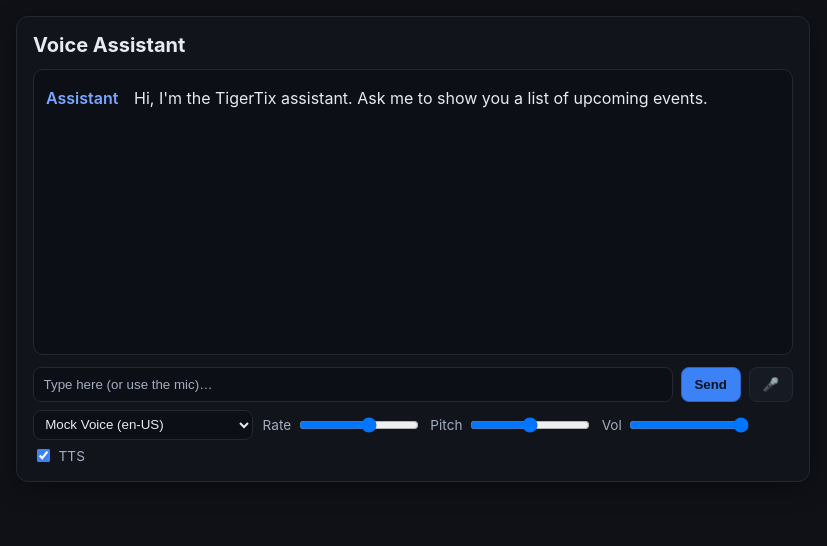
Test: booking via natural language (text)
# type a natural-language booking and send
Type "Please book one ticket for Clemson Homecoming Game" into the field named "Type your message" at (353,384), box [33,367,673,402]
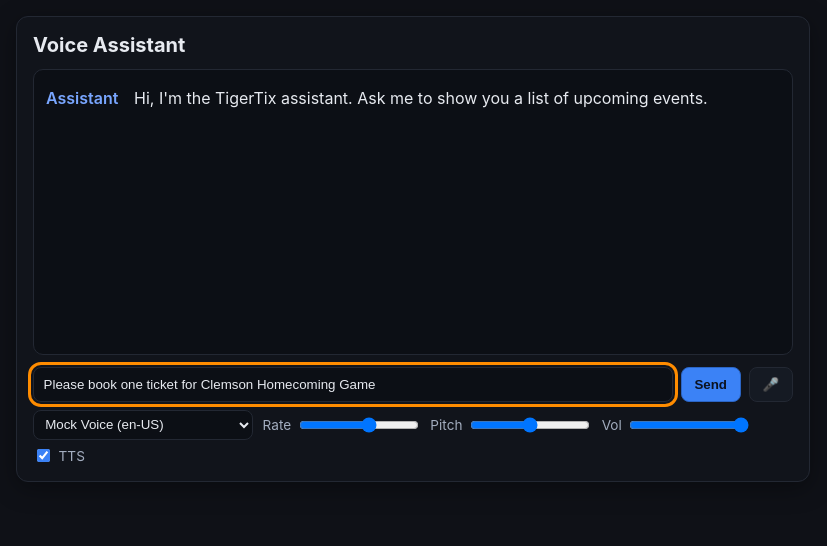
Click the button "Send" at (711,384), box [681,367,741,402]
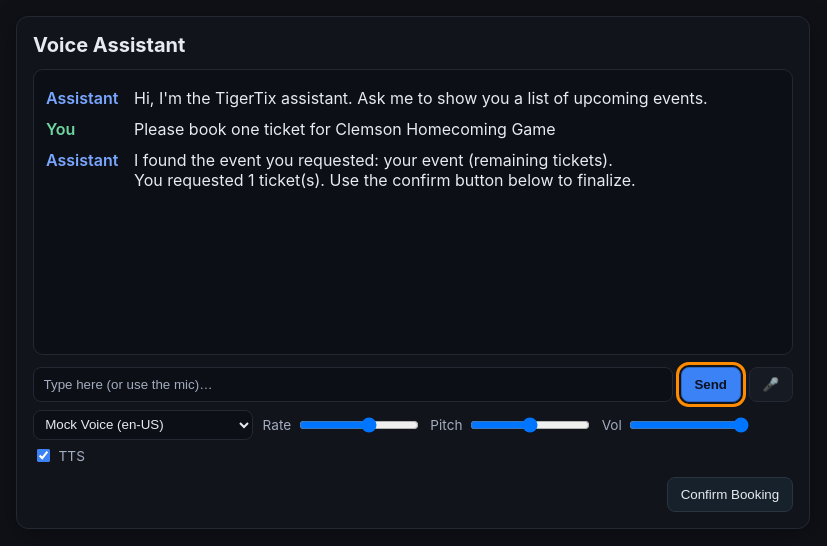
expect the button "Confirm Booking" is shown: met
Click the button "Confirm Booking" at (730,494), box [667,477,793,512]
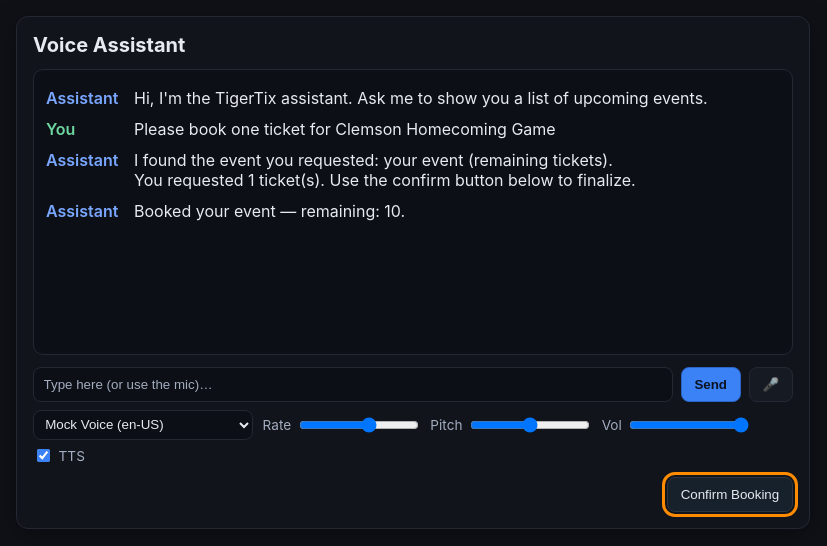
expect the text "Booked your event — remaining: 10." is shown: met, box [134,201,405,221]
